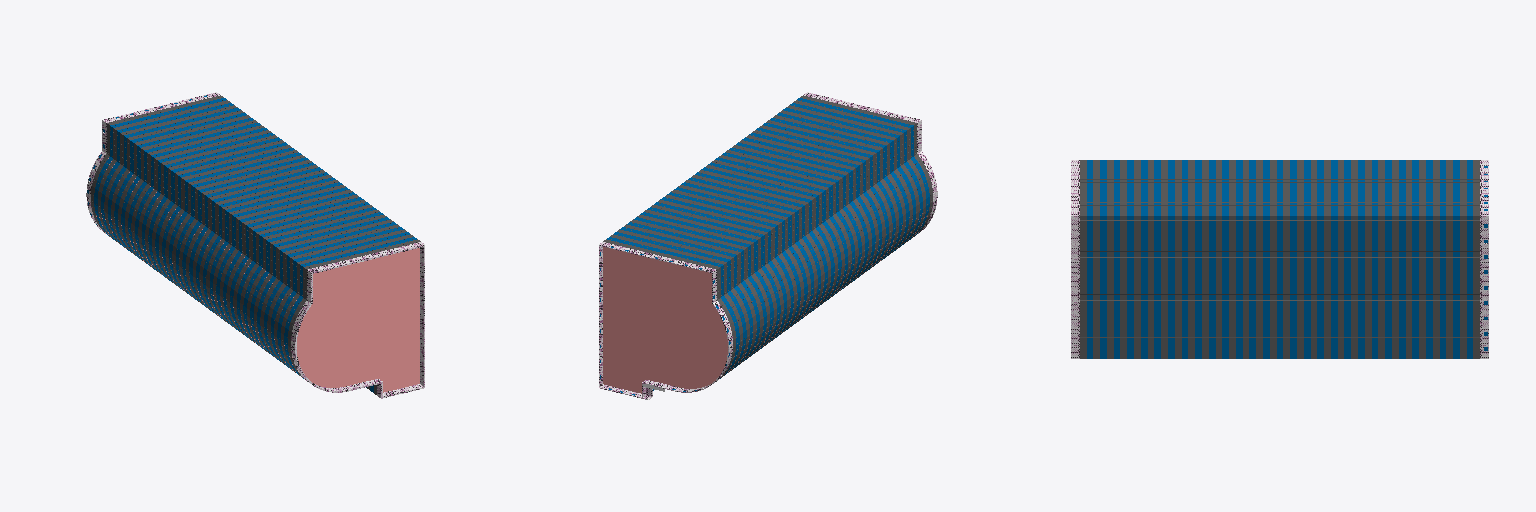
The picture shows the model from 3 angles: view 1: azimuth 30°, elevation 25°; view 2: azimuth 150°, elevation 25°; view 3: azimuth 270°, elevation 25°; orthographic projection.
Visible parts, largest first — view 1: glass_01, glass_1_01, slab_01, frame_01, wall_1_01, wall_1_02; view 2: glass_01, glass_1_01, slab_01, wall_1_02, frame_01, wall_1_01; view 3: glass_01, glass_1_01, frame_01, wall_1_01, wall_1_02.
Part boxes in pixels (x1,y1,x2,y2): glass_01: (91,95,420,394); glass_1_01: (94,98,416,392); slab_01: (96,158,419,392); frame_01: (92,97,416,390); wall_1_01: (291,242,424,397); wall_1_02: (86,92,424,398); glass_01: (603,95,932,381); glass_1_01: (607,98,929,390); slab_01: (603,158,927,393); wall_1_02: (599,209,935,399); frame_01: (607,97,931,373); wall_1_01: (804,92,937,233); glass_01: (1080,160,1479,358); glass_1_01: (1087,160,1472,358); frame_01: (1080,179,1479,337); wall_1_01: (1071,160,1079,358); wall_1_02: (1480,160,1488,358).
Size of the model in its own units: 2664 by 2800 by 7380.
Materials: 7 (1 with a texture image).